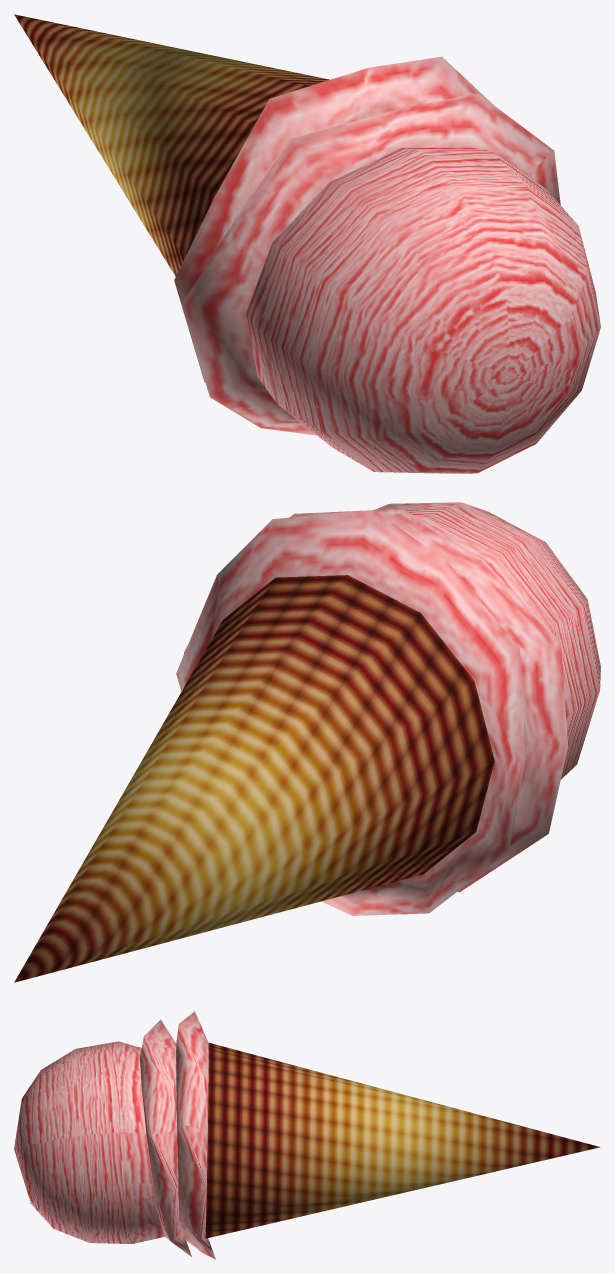
The model's file is IceCreamCone.fbx.
3 renders of one model, top to bottom at view 1: azimuth 30°, elevation 25°; view 2: azimuth 150°, elevation 25°; view 3: azimuth 270°, elevation 25°, orthographic. The views are drawn at different scales.
Parts seen in each view (by area): view 1: polySurface38; view 2: polySurface38; view 3: polySurface38.
Part boxes in pixels (left/top/right/bottom): polySurface38: left=14, top=14, right=600, bottom=473; polySurface38: left=14, top=502, right=600, bottom=982; polySurface38: left=14, top=1011, right=600, bottom=1259.
Size of the model in its own units: 0.3774 by 0.3666 by 0.8503.
